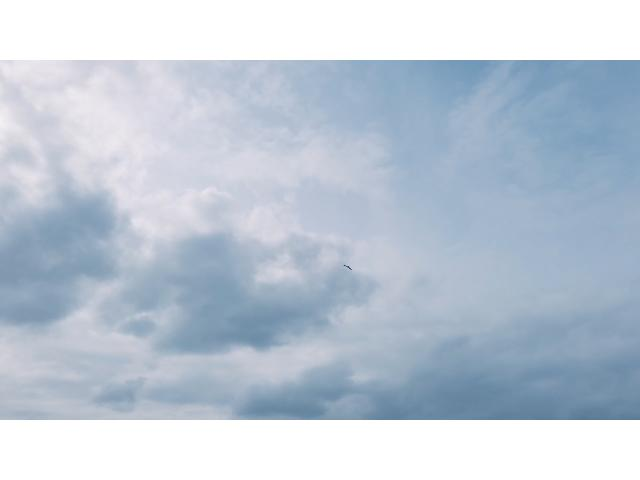Anti-Drone: (341, 262, 354, 272)
